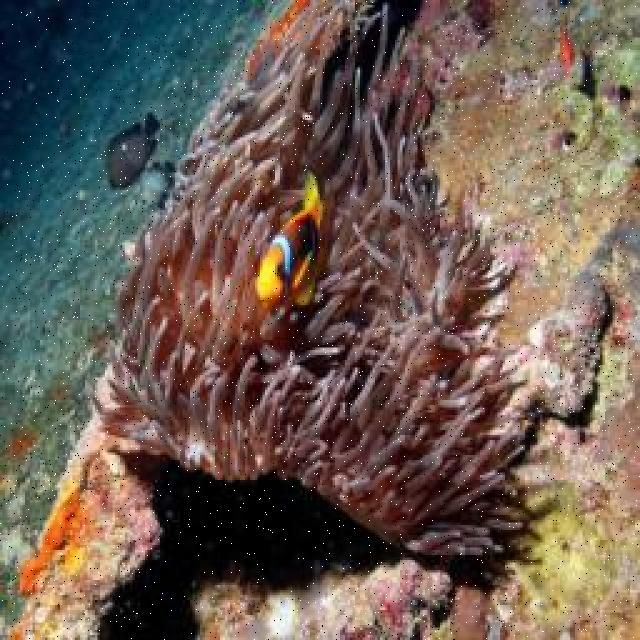fish: (256, 164, 327, 308), (106, 109, 166, 191)
reefs: (87, 0, 534, 566)
